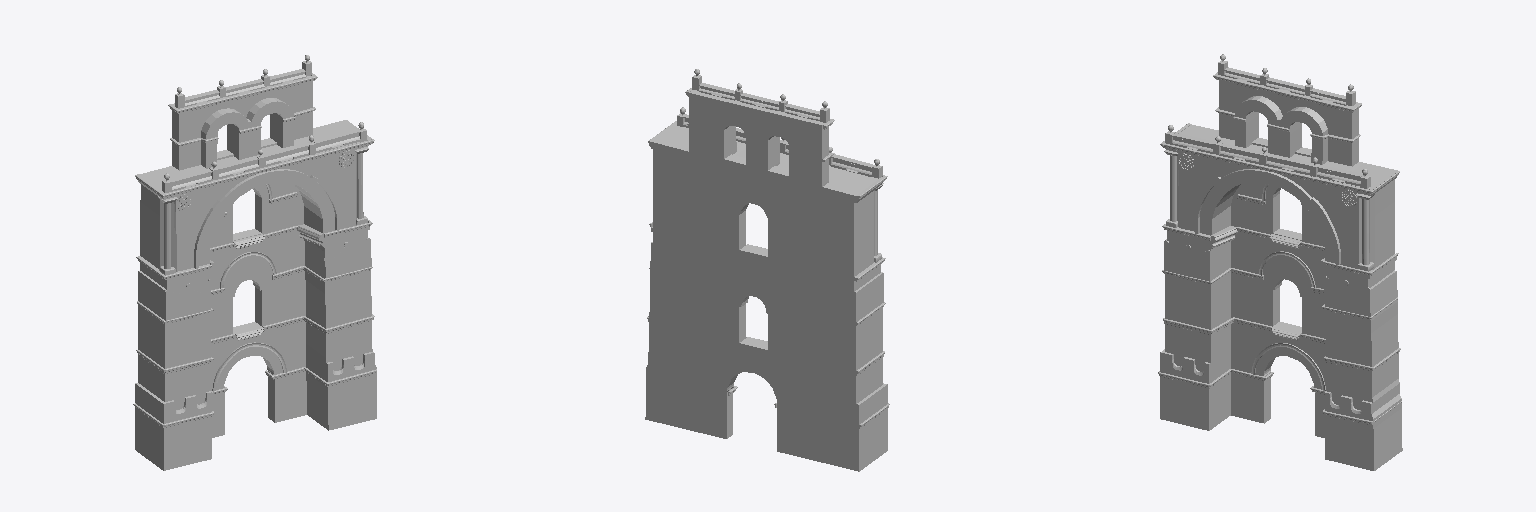
Rendered from proyecto.obj.
3 views of the same model, side by side, from view 1: azimuth 30°, elevation 25°; view 2: azimuth 150°, elevation 25°; view 3: azimuth 330°, elevation 25° (orthographic).
Visible parts, largest first — view 1: arco.004; view 2: arco.004; view 3: arco.004.
Part boxes in pixels (bbox=[...]): arco.004: bbox=[133, 55, 376, 470]; arco.004: bbox=[645, 69, 889, 471]; arco.004: bbox=[1158, 54, 1402, 470].
Size of the model in its own units: 11.42 by 18.12 by 2.69.